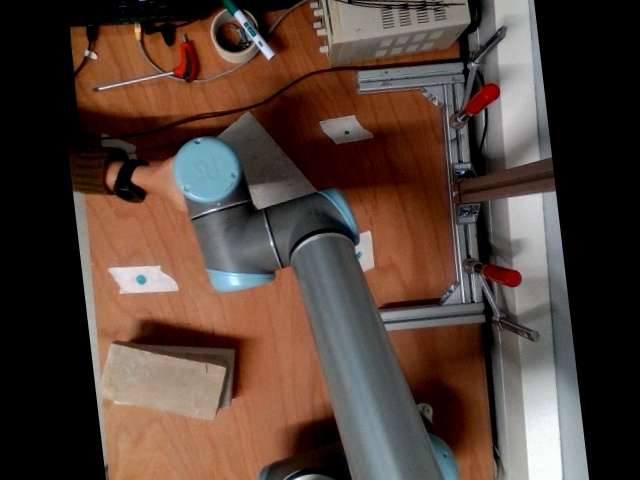brick: (98, 345, 224, 417)
